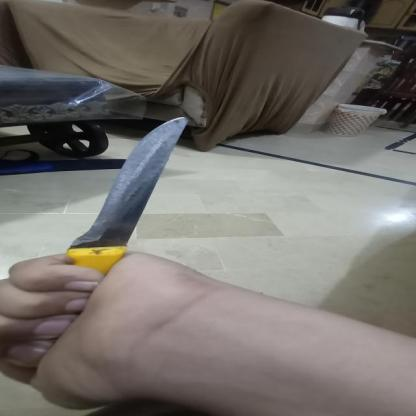Knife: (0, 110, 197, 360)
